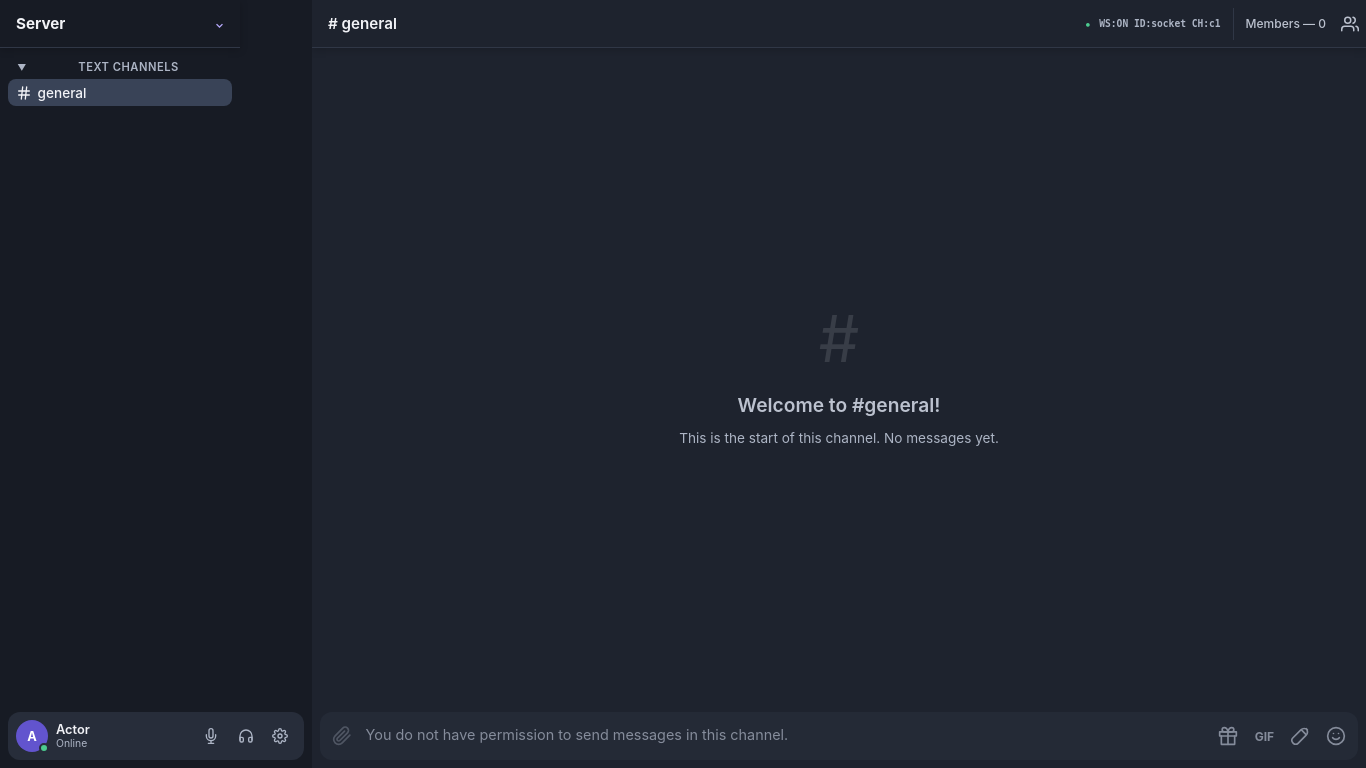
Scenario: F.5.4.1 real App > Server Settings > Invites composition › keeps CREATE_INVITE-only actors in Invite People without administration reachability
Click the button "Server ⌄".
click(120, 24)  # box [16, 14, 224, 33]
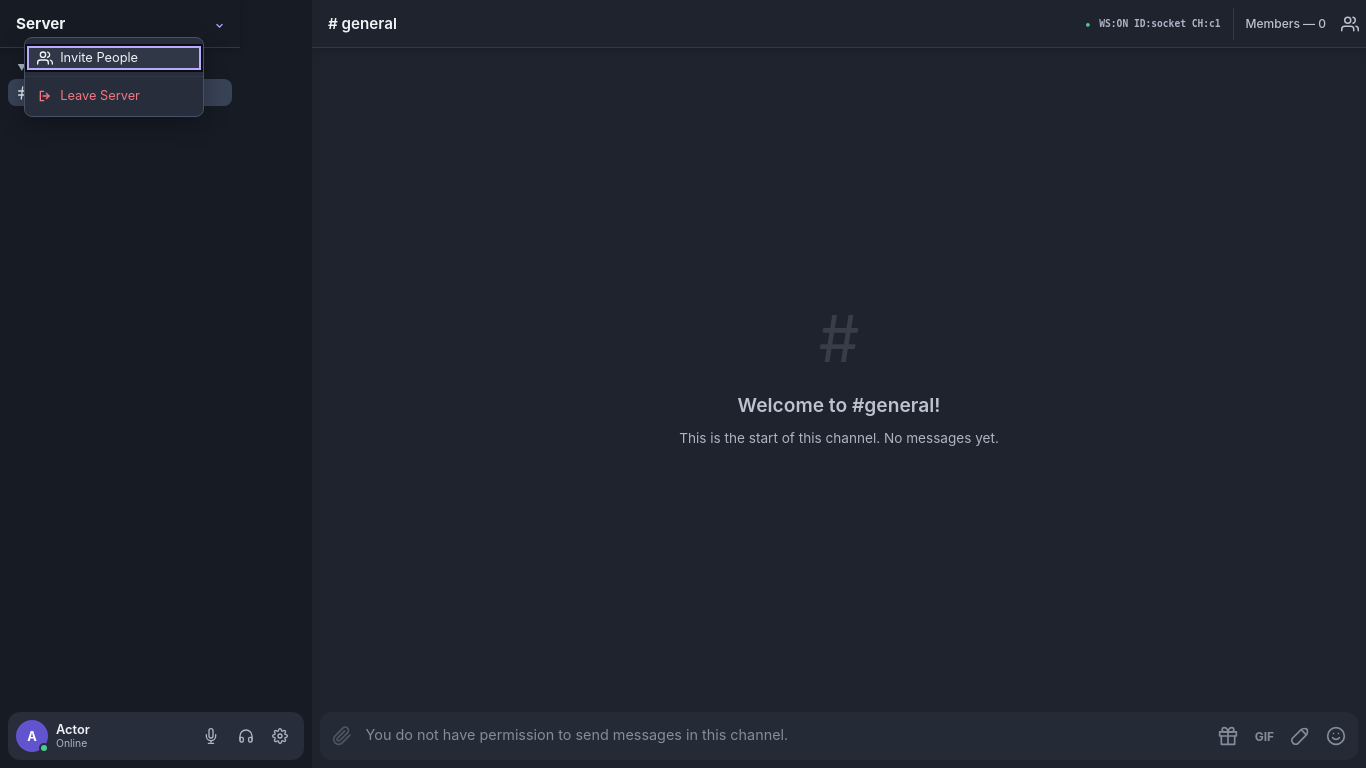
Click the menu item "Invite People".
click(114, 58)  # box [25, 44, 203, 72]
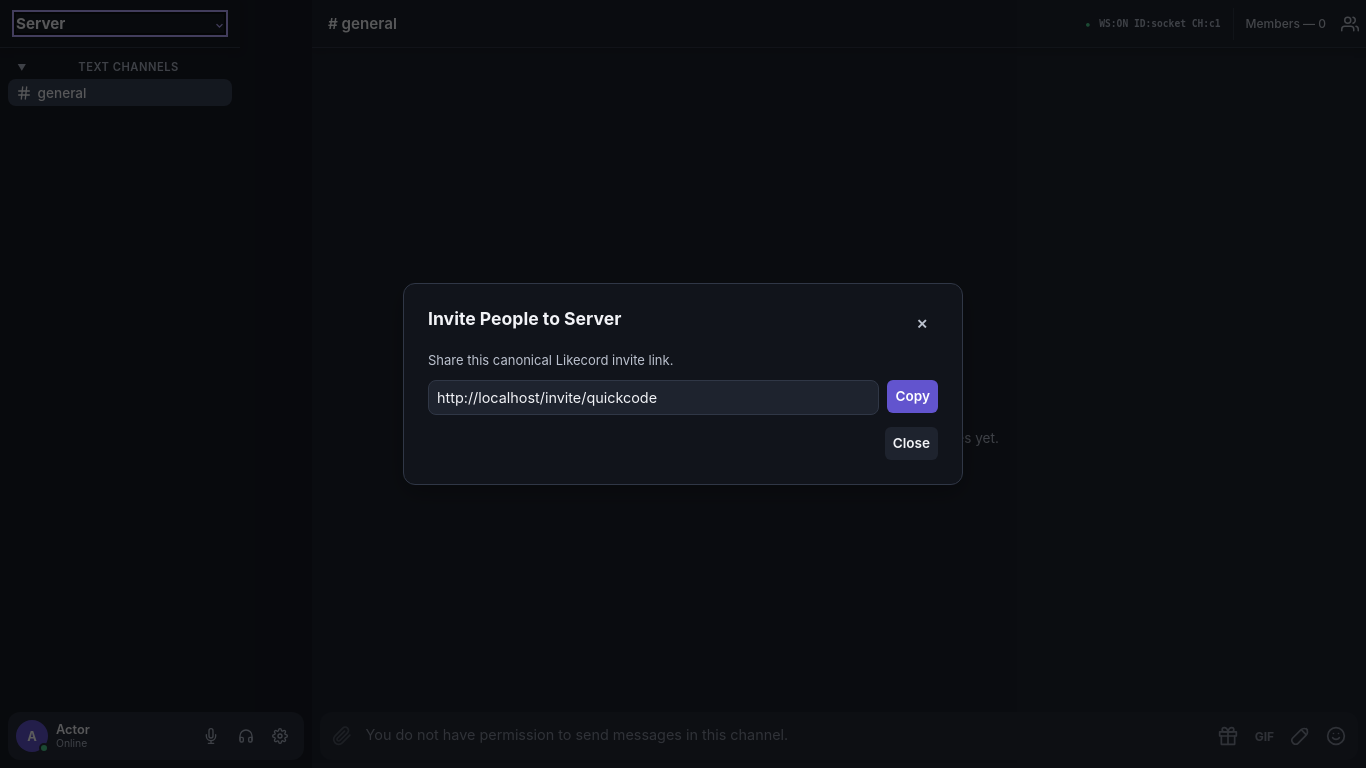
Check: the field named "Invite link" is shown, box [428, 380, 880, 415]
